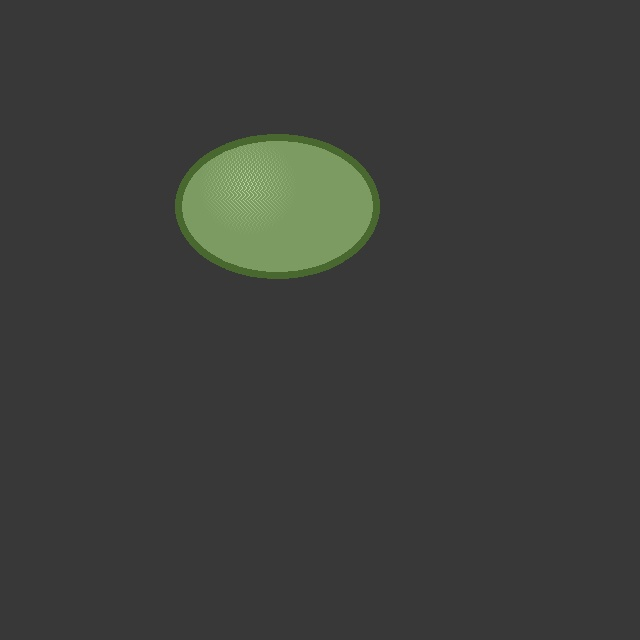lens: (178, 137, 376, 275)
